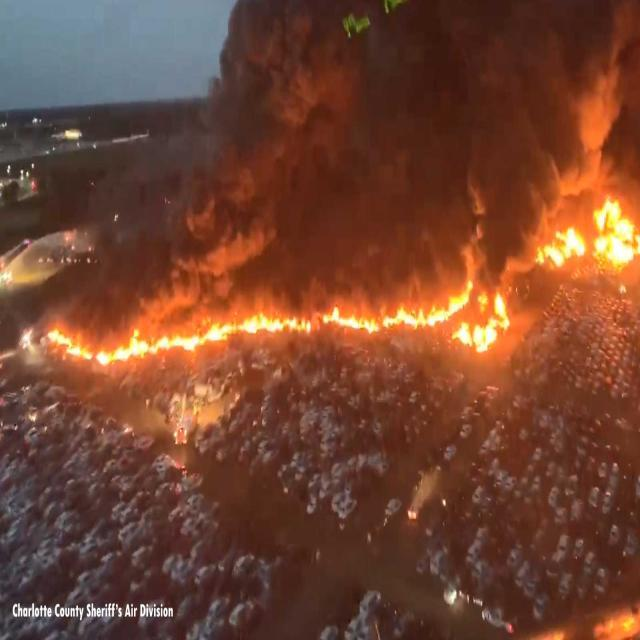Fire: (45, 314, 311, 364), (322, 276, 472, 328), (588, 192, 640, 272), (536, 225, 584, 268), (472, 321, 496, 357), (492, 292, 512, 332), (452, 322, 471, 348), (476, 290, 488, 316)
Smoke: (580, 63, 626, 148), (203, 219, 267, 270), (140, 261, 202, 312), (556, 150, 600, 198), (494, 239, 535, 284), (250, 272, 290, 314), (461, 224, 488, 278), (228, 280, 251, 324), (298, 273, 325, 304)
